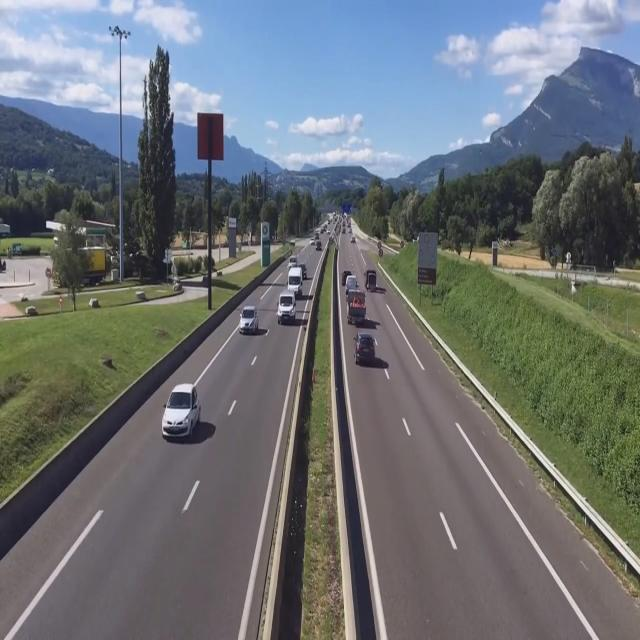bus: (286, 266, 303, 298)
car: (164, 386, 204, 442), (354, 325, 379, 369), (277, 291, 297, 324), (238, 304, 258, 334)
truck: (345, 286, 367, 327)
